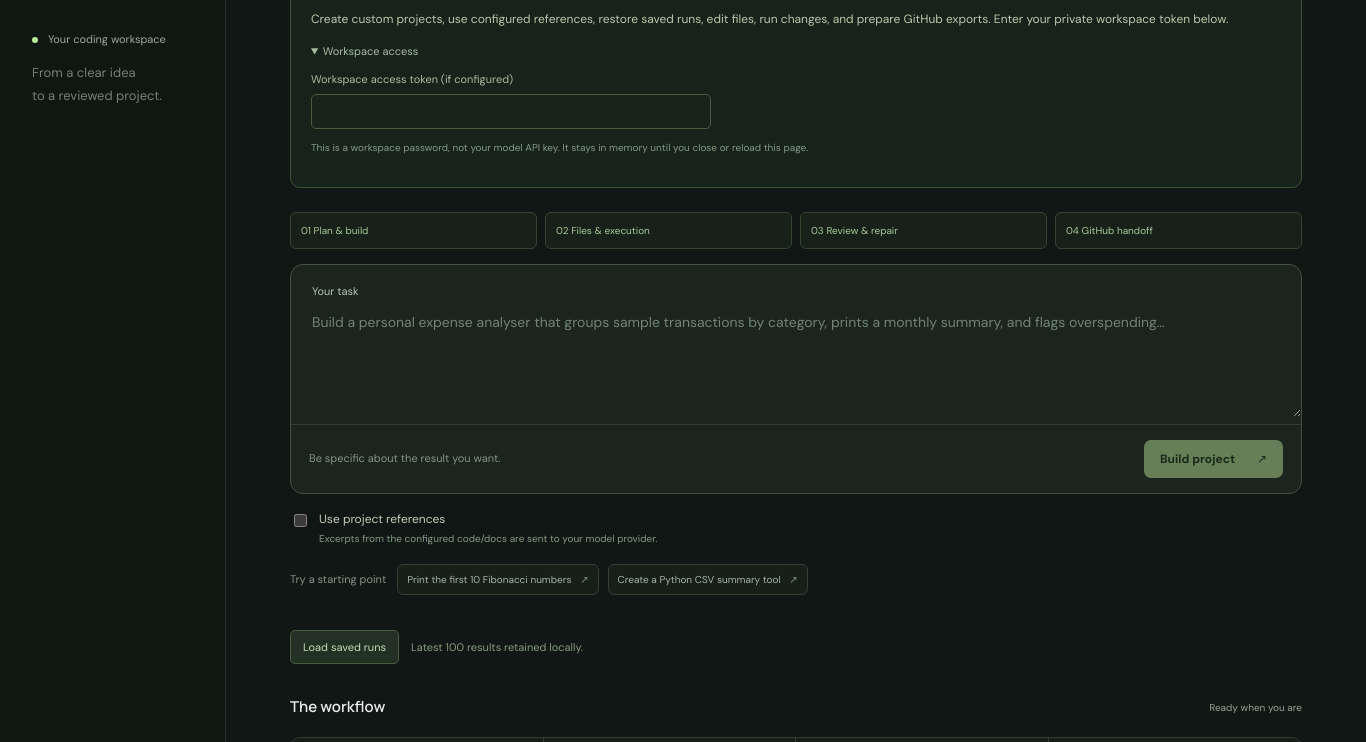
Test: shows a repair diff and the implementation plan
(page scrolled)
In the text box labelled "Your task": [796, 359] box left=291, top=301, right=1301, bottom=416, type "Print hello"
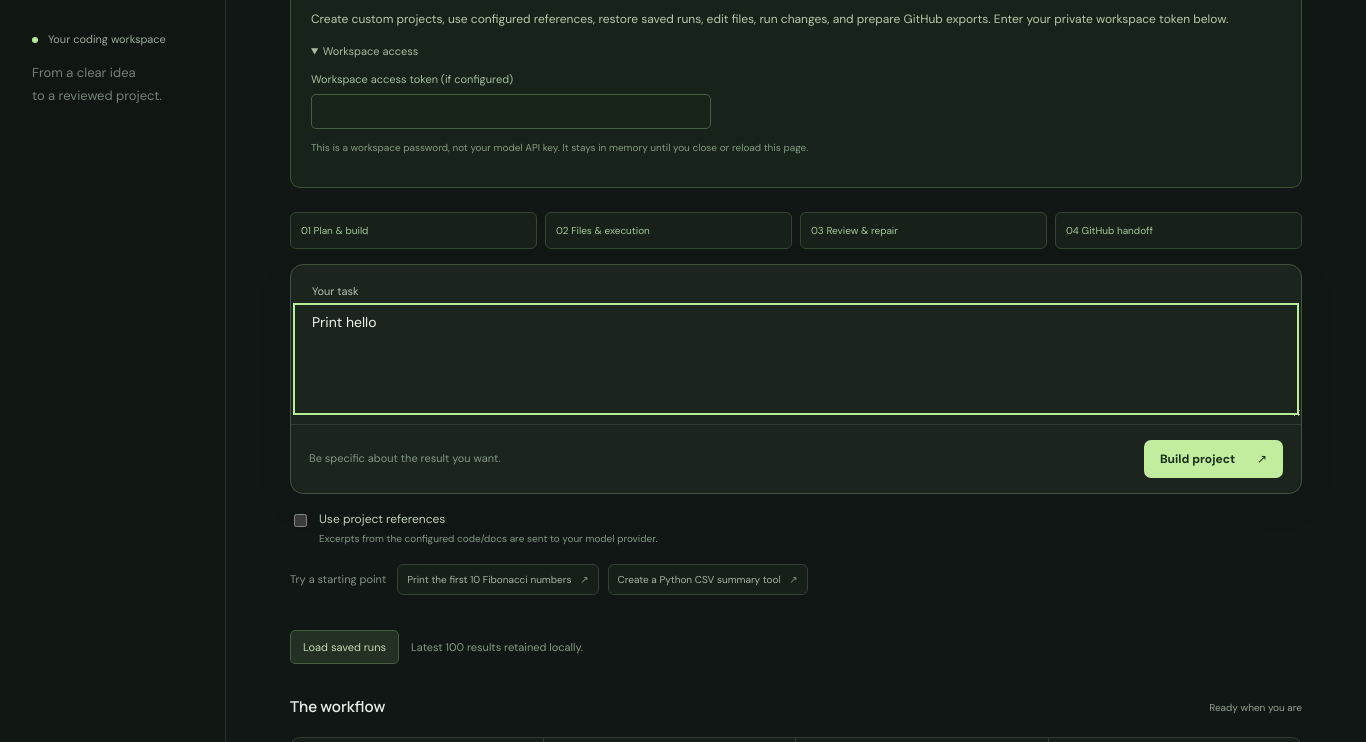
Click the button "Build project ↗": [1214, 458] box left=1144, top=440, right=1283, bottom=478
(page scrolled)
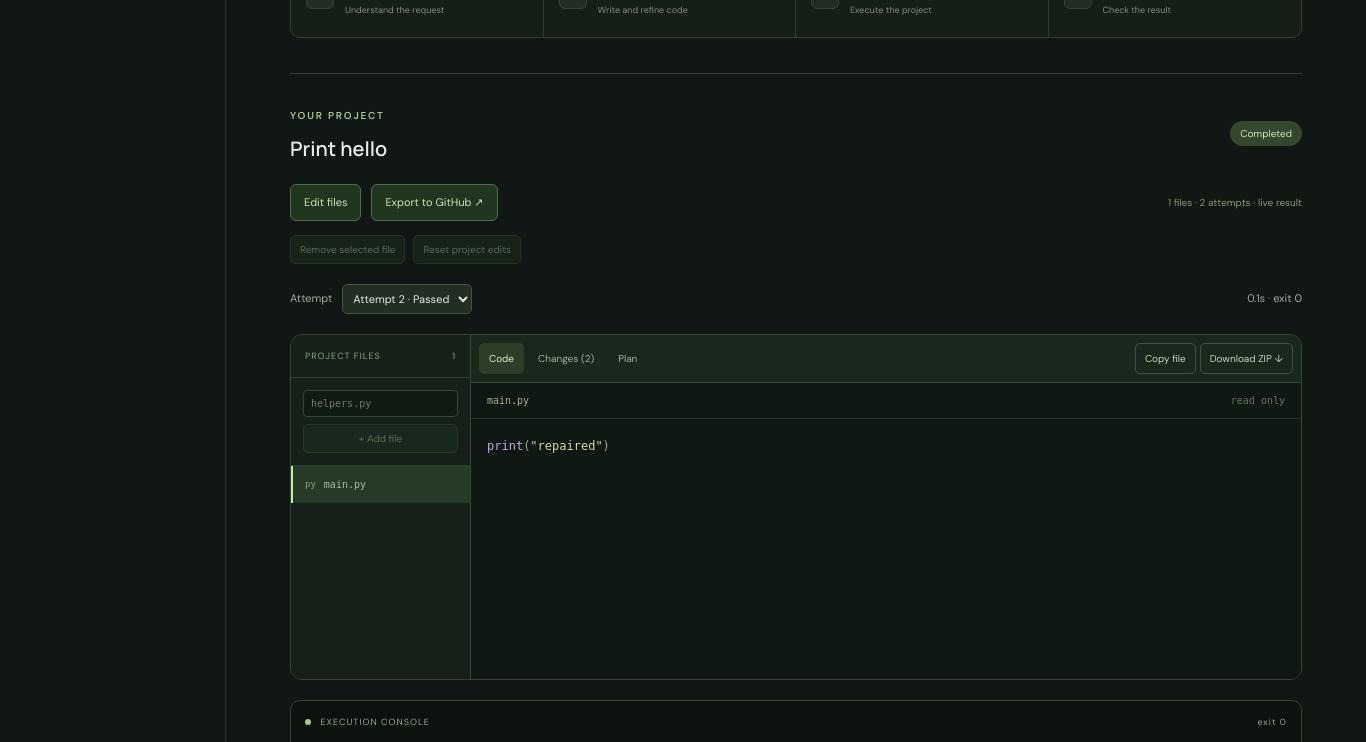
Click the button "Changes (2)": [566, 358] box left=528, top=342, right=604, bottom=374
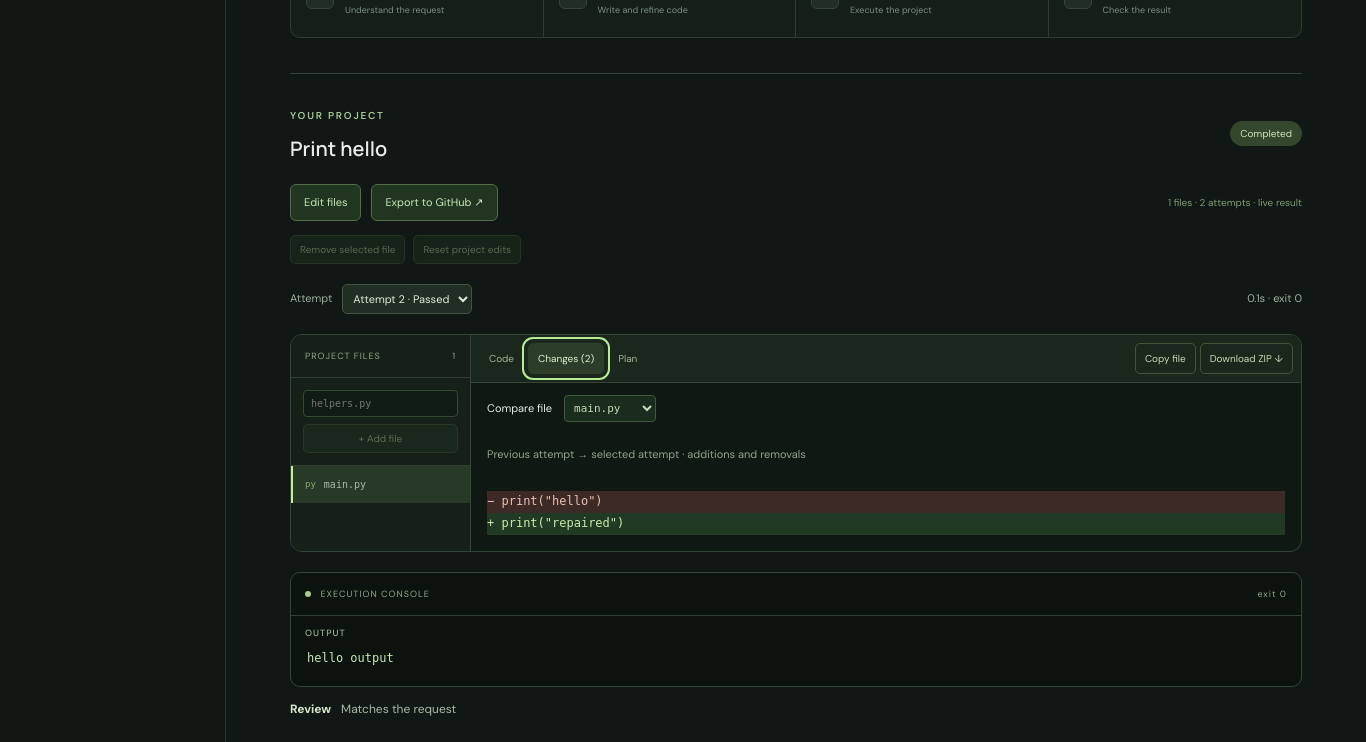
Check: the element named "Code changes" shows "repaired", box left=502, top=516, right=624, bottom=530
Check: the element named "Code changes" shows "hello", box left=502, top=494, right=603, bottom=508
Click the button "Plan": [628, 358] box left=608, top=342, right=647, bottom=374
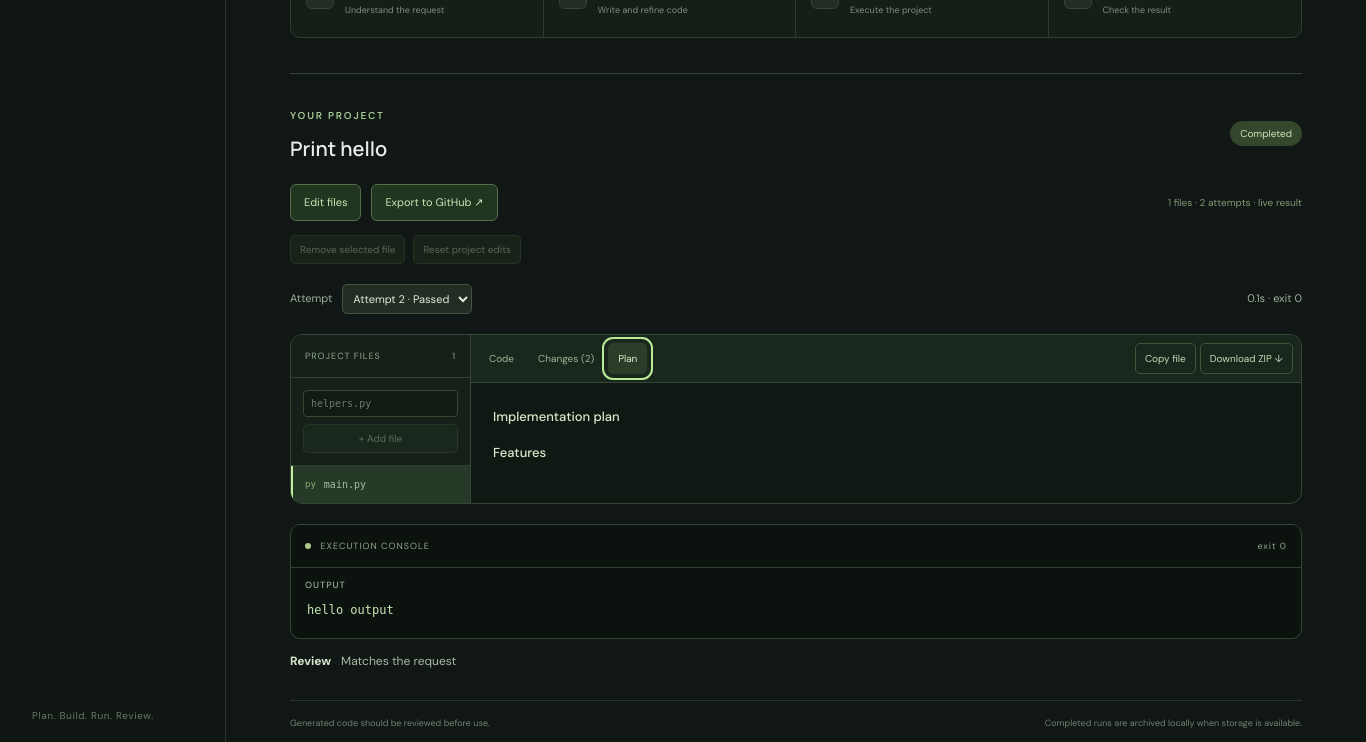
Check: the heading "Implementation plan" is shown, box left=493, top=408, right=620, bottom=424
